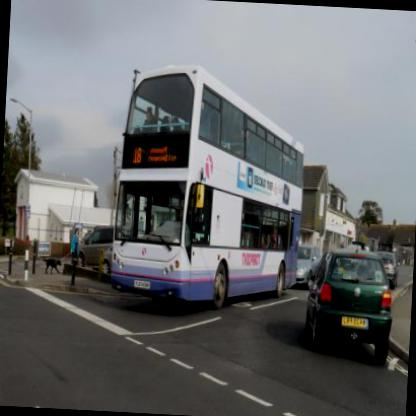bus: (106, 60, 310, 314)
